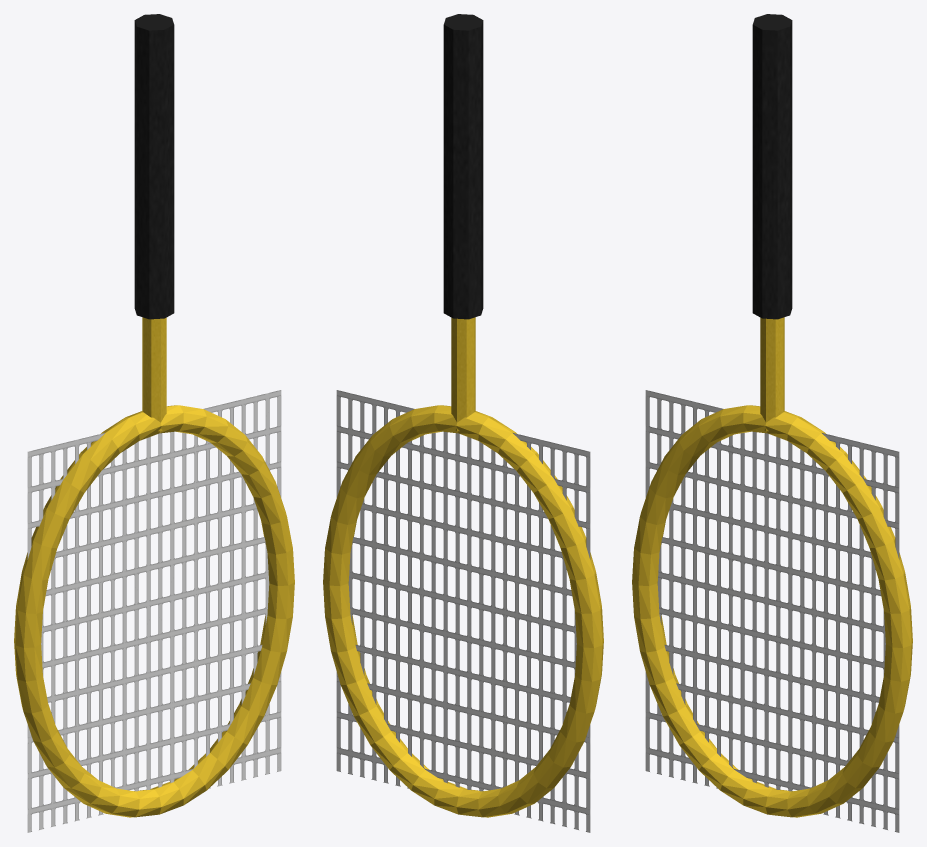
File: JugA_Raqueta.obj
The picture shows the model from 3 angles, left to right: view 1: azimuth 30°, elevation 25°; view 2: azimuth 150°, elevation 25°; view 3: azimuth 330°, elevation 25°; orthographic projection.
Bounding box in the file's own units: 0.252 × 0.686 × 0.032.
Materials: 2 (2 with a texture image).
